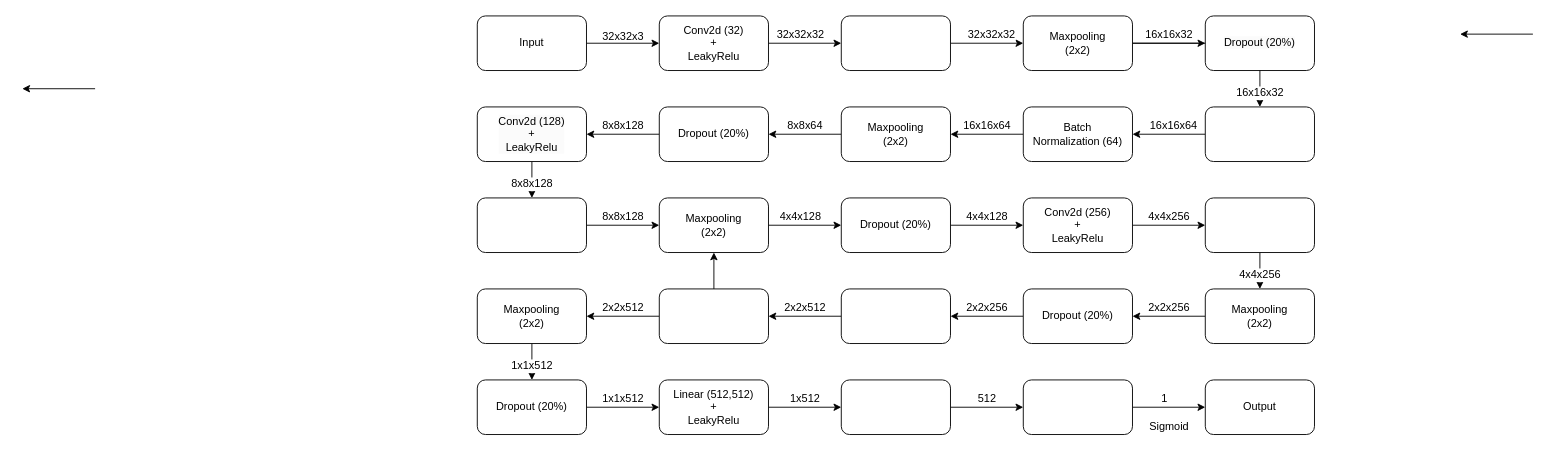
This 1556x450 diagram has some shape labels left out. Each missing label, with the centre of its shape:
"Batch Normalization (128)" belongs at (x=531, y=225).
"Batch Normalization (256)" belongs at (x=1259, y=225).
"Batch Normalization (32)" belongs at (x=895, y=43).
"Batch Normalization (512)" belongs at (x=713, y=316).
"Conv2d (512) + LeakyRelu" belongs at (x=895, y=316).
"Conv2d (64) + LeakyRelu" belongs at (x=1259, y=134).
"Dropout (50%)" belongs at (x=895, y=407).
"Linear (512,1)" belongs at (x=1077, y=407).
